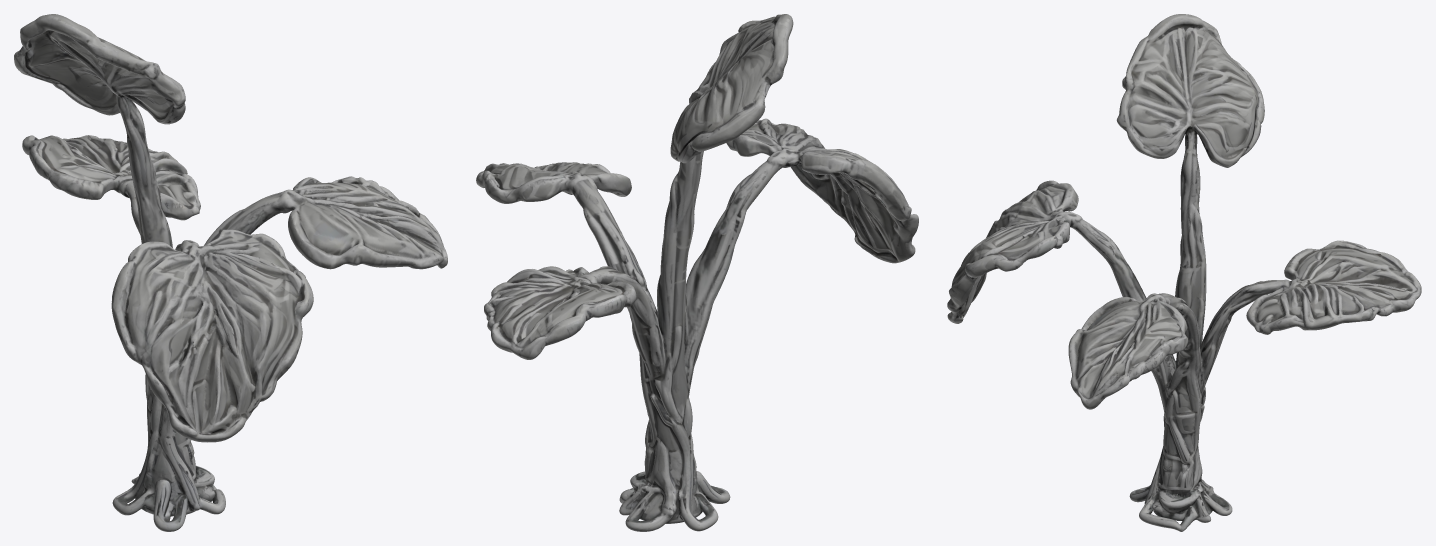
The model's file is sustainability-more-positive.glb.
3 renders of one model, left to right at view 1: azimuth 30°, elevation 25°; view 2: azimuth 150°, elevation 25°; view 3: azimuth 270°, elevation 25°, orthographic. The views are drawn at different scales.
Visible parts, largest first — view 1: tripo_node_ac694b9d-ae55-4dba-a8bb-9fc9b6515db6; view 2: tripo_node_ac694b9d-ae55-4dba-a8bb-9fc9b6515db6; view 3: tripo_node_ac694b9d-ae55-4dba-a8bb-9fc9b6515db6.
Boxes of the visible parts, x1,y1,x2,y2 form: tripo_node_ac694b9d-ae55-4dba-a8bb-9fc9b6515db6: (14,14,447,531); tripo_node_ac694b9d-ae55-4dba-a8bb-9fc9b6515db6: (476,14,918,531); tripo_node_ac694b9d-ae55-4dba-a8bb-9fc9b6515db6: (947,14,1421,531).
Size of the model in its own units: 0.7411 by 1 by 0.955.
1 material, 1 textured.
